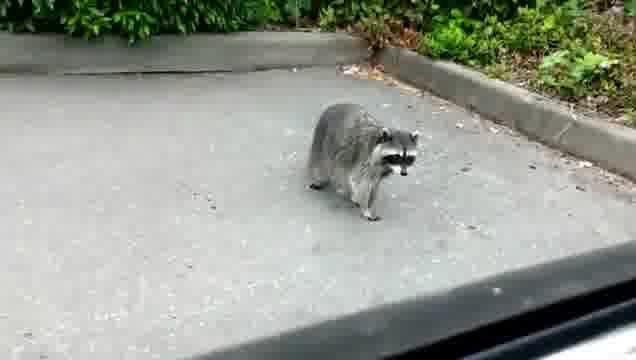raccoon: (306, 102, 423, 228)
